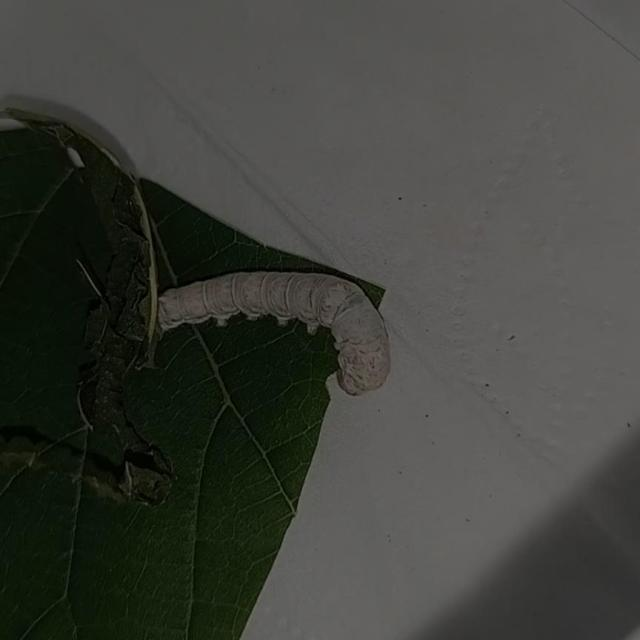Healthy: (142, 249, 404, 400)
